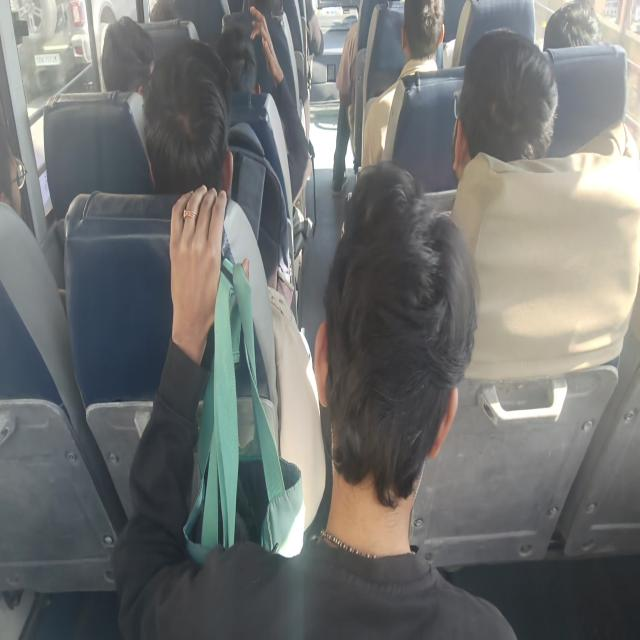person: (111, 160, 518, 638), (449, 27, 639, 379), (142, 38, 280, 451), (451, 27, 559, 182), (542, 0, 639, 158), (361, 0, 445, 171), (331, 0, 404, 195), (248, 5, 312, 204), (331, 19, 359, 195), (100, 15, 154, 94), (542, 0, 602, 51)
